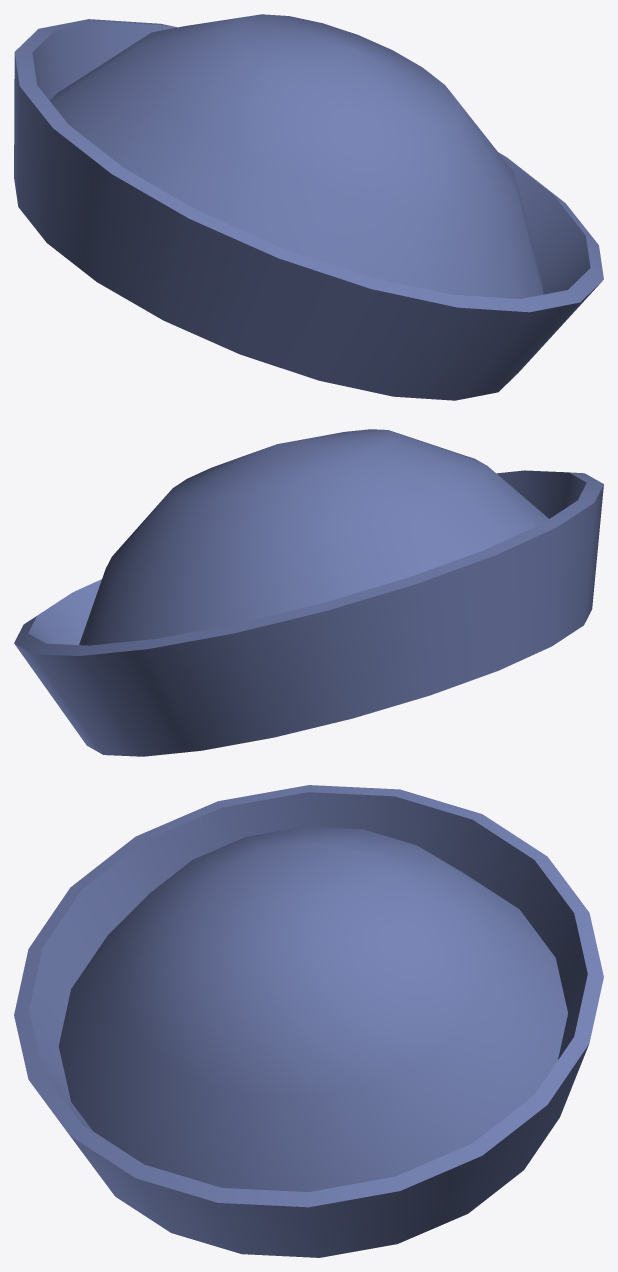
Rendered from Sailor Hat.fbx.
3 renders of one model, top to bottom at view 1: azimuth 30°, elevation 25°; view 2: azimuth 150°, elevation 25°; view 3: azimuth 270°, elevation 25°, orthographic. The views are drawn at different scales.
Parts seen in each view (by area): view 1: polySurface468; view 2: polySurface468; view 3: polySurface468.
Boxes of the visible parts, x1,y1,x2,y2 form: polySurface468: [14, 14, 603, 400]; polySurface468: [14, 429, 603, 756]; polySurface468: [14, 785, 603, 1257].
Bounding box in the file's own units: 0.0336 × 0.0202 × 0.0357.
